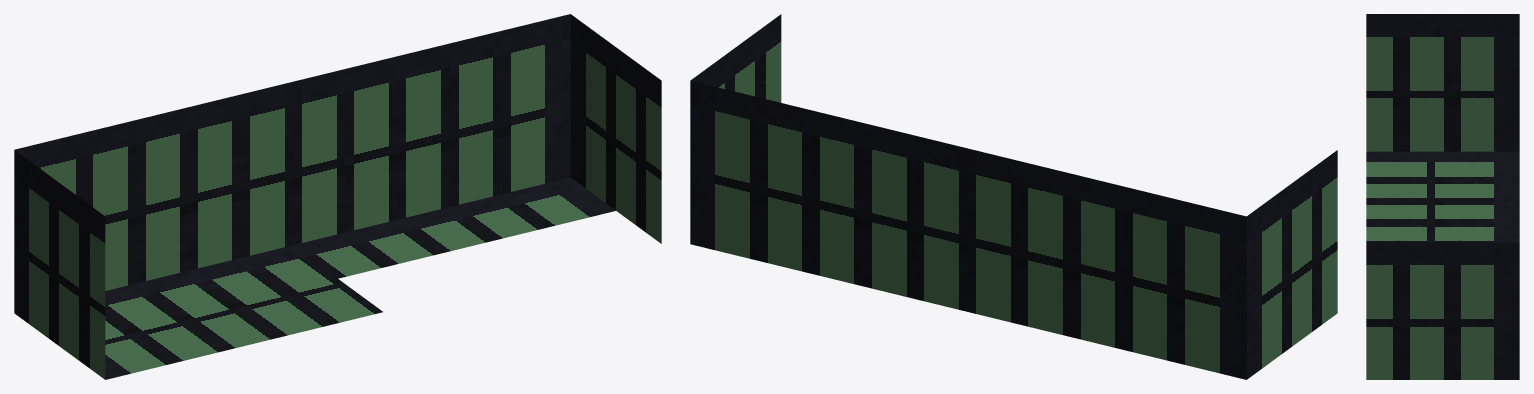
The picture shows the model from 3 angles, left to right: view 1: azimuth 30°, elevation 25°; view 2: azimuth 150°, elevation 25°; view 3: azimuth 270°, elevation 25°; orthographic projection. The views are drawn at different scales.
Visible parts, largest first — view 1: balcony-ladder-top; view 2: balcony-ladder-top; view 3: balcony-ladder-top.
Boxes of the visible parts, x1,y1,x2,y2 form: balcony-ladder-top: (14,14,661,379); balcony-ladder-top: (690,14,1337,379); balcony-ladder-top: (1366,14,1519,379).
Size of the model in its own units: 1 by 0.2808 by 0.2837.
1 material, 1 textured.
